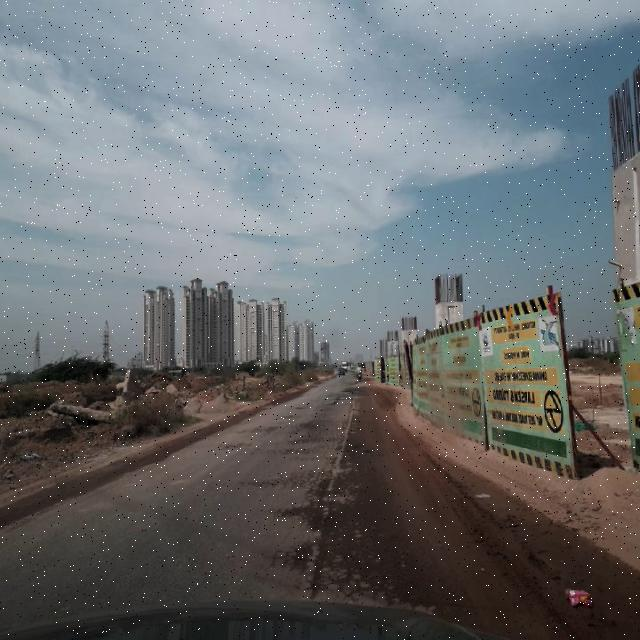D20: (243, 395, 449, 591)
